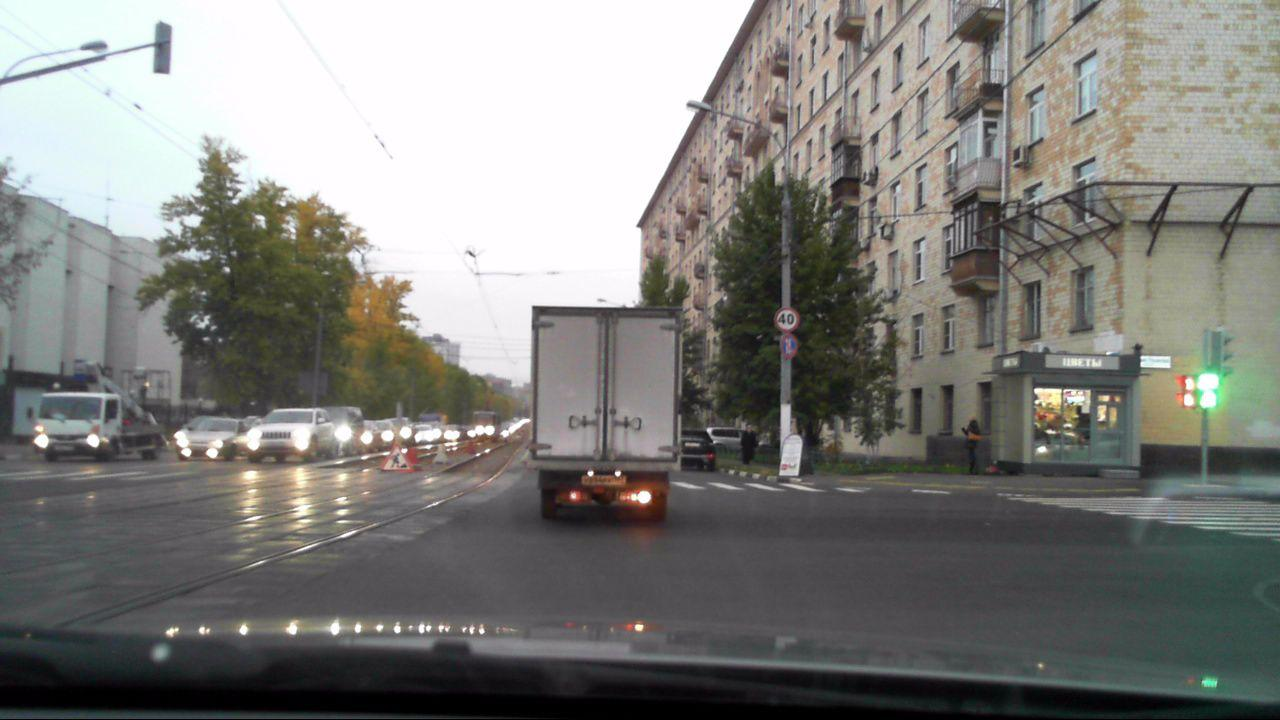1_25: (382, 441, 415, 474)
3_24: (775, 304, 801, 328)
3_30: (779, 333, 798, 355)
